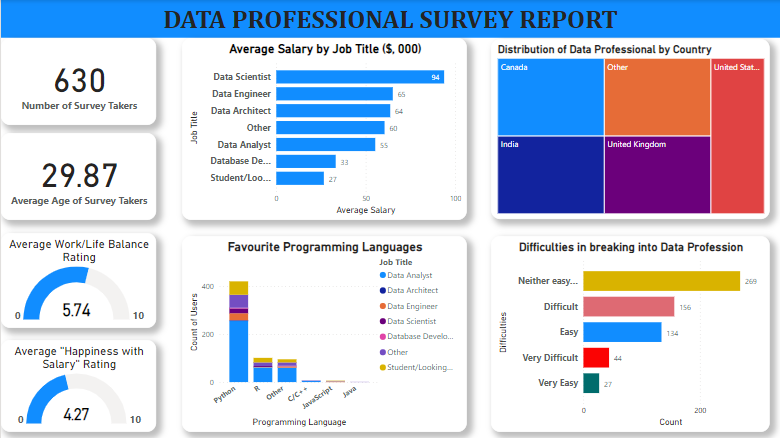

What the dashboard file says about the page in this screenshot:
{"tool":"powerbi","page":{"name":"Page 1","canvas":[1280,720],"ordinal":0},"visuals":[{"type":"textbox","box":[0,0,1280,62.2],"z":0},{"type":"card","fields":{"Values":["CountNonNull(Data Professional Survey.Unique ID)"]},"box":[0,62.4,254.7,143],"z":1000},{"type":"card","fields":{"Values":["Avg(Data Professional Survey.Q10 - Current Age)"]},"box":[0,218.5,254.7,143],"z":2000},{"type":"barChart","title":"Average Salary by Job Title ($, 000)","fields":{"Category":["Data Professional Survey.Q1 - Which Title Best Fits your Current Role?.1"],"Y":["Avg(Data Professional Survey.Average Salary)"]},"box":[297.4,62.4,468.3,299.1],"z":3000},{"type":"columnChart","title":"Favourite Programming Languages","fields":{"Category":["Data Professional Survey.Q5 - Favorite Programming Language.1"],"Y":["CountNonNull(Data Professional Survey.Unique ID)"],"Series":["Data Professional Survey.Q1 - Which Title Best Fits your Current Role?.1"]},"box":[297.4,387.8,468.3,322.1],"z":4000},{"type":"treemap","title":"Distribution of Data Professional by Country","fields":{"Values":["Count(Data Professional Survey.Q11 - Which Country do you live in?.1)"],"Details":["Data Professional Survey.Q11 - Which Country do you live in?.1"]},"box":[805.1,64.1,458.4,295.8],"z":5000},{"type":"gauge","title":"Average Work/Life Balance Rating","fields":{"Y":["Avg(Data Professional Survey.Q6 - How Happy are you in your Current Position with the following? (Work/Life Balance))"],"MinValue":["Min(Data Professional Survey.Q6 - How Happy are you in your Current Position with the following? (Work/Life Balance))"],"MaxValue":["Max(Data Professional Survey.Q6 - How Happy are you in your Current Position with the following? (Work/Life Balance))1"]},"box":[0,382.8,254.7,156.1],"z":6000},{"type":"gauge","title":"Average \"Happiness with Salary\" Rating","fields":{"Y":["Avg(Data Professional Survey.Q6 - How Happy are you in your Current Position with the following? (Salary))"],"MinValue":["Min(Data Professional Survey.Q6 - How Happy are you in your Current Position with the following? (Salary))"],"MaxValue":["Max(Data Professional Survey.Q6 - How Happy are you in your Current Position with the following? (Salary))"]},"box":[0,558.7,254.7,151.2],"z":7000},{"type":"barChart","title":"Difficulties in breaking into Data Profession","fields":{"Category":["Data Professional Survey.Q7 - How difficult was it for you to break into Data?"],"Y":["CountNonNull(Data Professional Survey.Unique ID)"]},"box":[805.1,387.8,458.4,322.1],"z":9000}]}

Visuals, with their boxes in screenshot pixels (x1, y1, x2, y2), scaled from the page's 1280x720 canvas onto the 780x438 screenshot:
textbox: (left=0, top=0, right=779, bottom=38)
card - CountNonNull(Data Professional Survey.Unique ID): (left=0, top=38, right=155, bottom=125)
card - Avg(Data Professional Survey.Q10 - Current Age): (left=0, top=133, right=155, bottom=220)
"Average Salary by Job Title ($, 000)" barChart: (left=181, top=38, right=467, bottom=220)
"Favourite Programming Languages" columnChart: (left=181, top=236, right=467, bottom=432)
"Distribution of Data Professional by Country" treemap: (left=491, top=39, right=770, bottom=219)
"Average Work/Life Balance Rating" gauge: (left=0, top=233, right=155, bottom=328)
"Average "Happiness with Salary" Rating" gauge: (left=0, top=340, right=155, bottom=432)
"Difficulties in breaking into Data Profession" barChart: (left=491, top=236, right=770, bottom=432)
